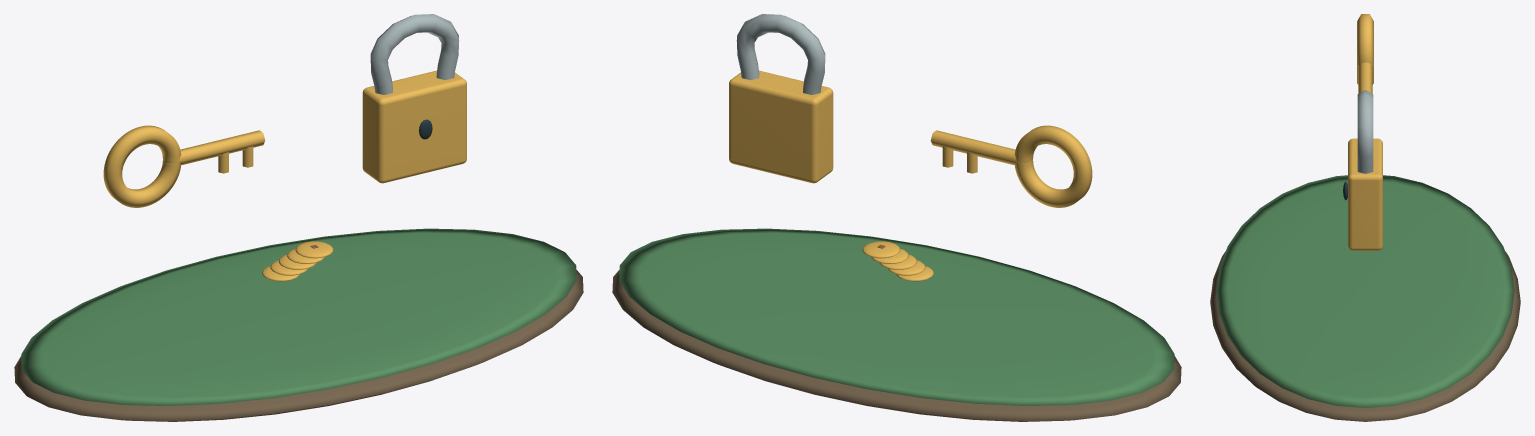
File: complete-first-inexpensive-fit.glb
3 renders of one model, left to right at view 1: azimuth 30°, elevation 25°; view 2: azimuth 150°, elevation 25°; view 3: azimuth 270°, elevation 25°, orthographic. The views are drawn at different scales.
Parts seen in each view (by area): view 1: complete-first-inexpensive-fit_surface_01, complete-first-inexpensive-fit_surface_02, complete-first-inexpensive-fit_surface_00, complete-first-inexpensive-fit_surface_03; view 2: complete-first-inexpensive-fit_surface_01, complete-first-inexpensive-fit_surface_02, complete-first-inexpensive-fit_surface_00, complete-first-inexpensive-fit_surface_03; view 3: complete-first-inexpensive-fit_surface_01, complete-first-inexpensive-fit_surface_00, complete-first-inexpensive-fit_surface_02, complete-first-inexpensive-fit_surface_03.
Boxes of the visible parts, x1,y1,x2,y2 form: complete-first-inexpensive-fit_surface_01: (21, 228, 576, 405); complete-first-inexpensive-fit_surface_02: (103, 70, 466, 281); complete-first-inexpensive-fit_surface_00: (14, 270, 583, 421); complete-first-inexpensive-fit_surface_03: (370, 14, 459, 94); complete-first-inexpensive-fit_surface_01: (619, 228, 1174, 405); complete-first-inexpensive-fit_surface_02: (729, 70, 1092, 281); complete-first-inexpensive-fit_surface_00: (612, 270, 1181, 421); complete-first-inexpensive-fit_surface_03: (736, 14, 825, 94); complete-first-inexpensive-fit_surface_01: (1216, 175, 1514, 407); complete-first-inexpensive-fit_surface_00: (1210, 251, 1520, 421); complete-first-inexpensive-fit_surface_02: (1348, 14, 1382, 250); complete-first-inexpensive-fit_surface_03: (1357, 90, 1373, 173).
Size of the model in its own units: 4.56 by 2.42 by 2.5.
